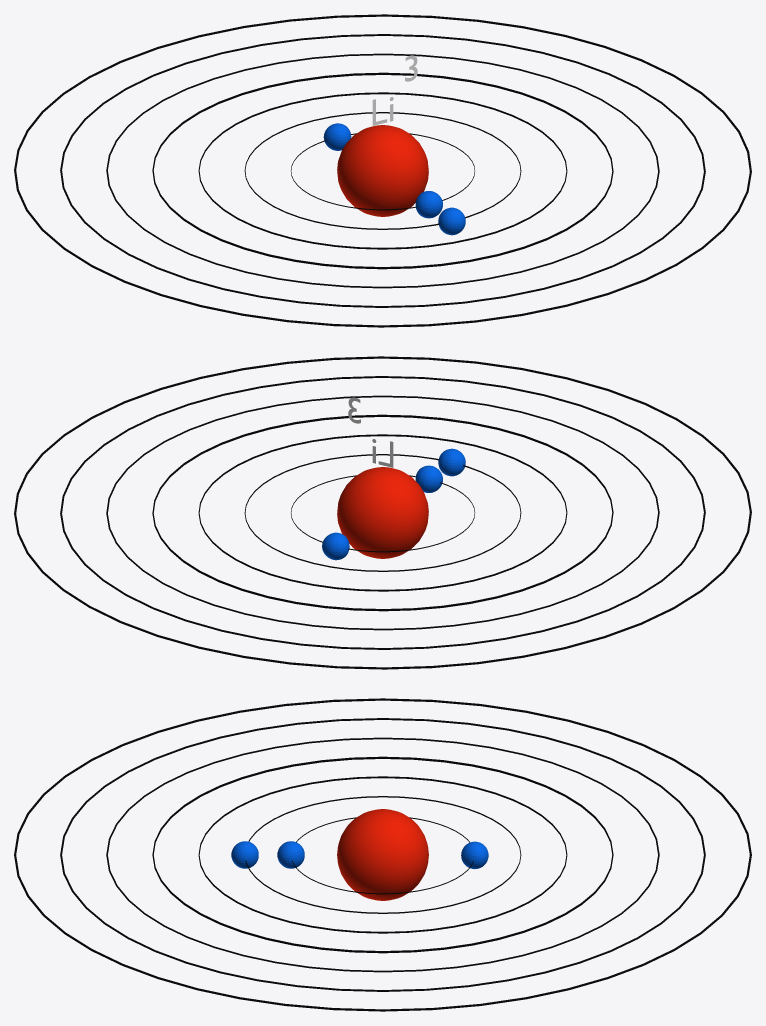
The picture shows the model from 3 angles, top to bottom: view 1: azimuth 30°, elevation 25°; view 2: azimuth 150°, elevation 25°; view 3: azimuth 270°, elevation 25°; orthographic projection.
Parts seen in each view (by area): view 1: Proton, n7, n6, n5, n4, n3, Li1, n2, Li2; view 2: Proton, n7, n6, n5, n4, n3, Li1, n2, Li2; view 3: Proton, n7, n6, n5, n4, n3, Li1, n2, Li2, n1.
Boxes of the visible parts, x1=… form: Proton: x1=337, y1=125, x2=428, y2=216; n7: x1=14, y1=14, x2=751, y2=327; n6: x1=60, y1=34, x2=705, y2=307; n5: x1=106, y1=53, x2=659, y2=288; n4: x1=152, y1=72, x2=613, y2=269; n3: x1=198, y1=92, x2=567, y2=249; Li1: x1=323, y1=123, x2=442, y2=218; n2: x1=244, y1=112, x2=521, y2=229; Li2: x1=438, y1=207, x2=465, y2=235; Proton: x1=337, y1=467, x2=428, y2=558; n7: x1=14, y1=356, x2=751, y2=669; n6: x1=60, y1=376, x2=705, y2=649; n5: x1=106, y1=395, x2=659, y2=630; n4: x1=152, y1=414, x2=613, y2=611; n3: x1=198, y1=434, x2=567, y2=591; Li1: x1=322, y1=465, x2=442, y2=560; n2: x1=244, y1=454, x2=521, y2=571; Li2: x1=438, y1=448, x2=465, y2=476; Proton: x1=337, y1=809, x2=428, y2=900; n7: x1=14, y1=698, x2=751, y2=1011; n6: x1=60, y1=718, x2=705, y2=991; n5: x1=106, y1=737, x2=659, y2=972; n4: x1=152, y1=756, x2=613, y2=953; n3: x1=198, y1=776, x2=567, y2=933; Li1: x1=277, y1=841, x2=488, y2=869; n2: x1=245, y1=796, x2=521, y2=913; Li2: x1=231, y1=841, x2=258, y2=868; n1: x1=292, y1=817, x2=473, y2=894.
Bounding box in the file's own units: 802 × 180 × 802.
